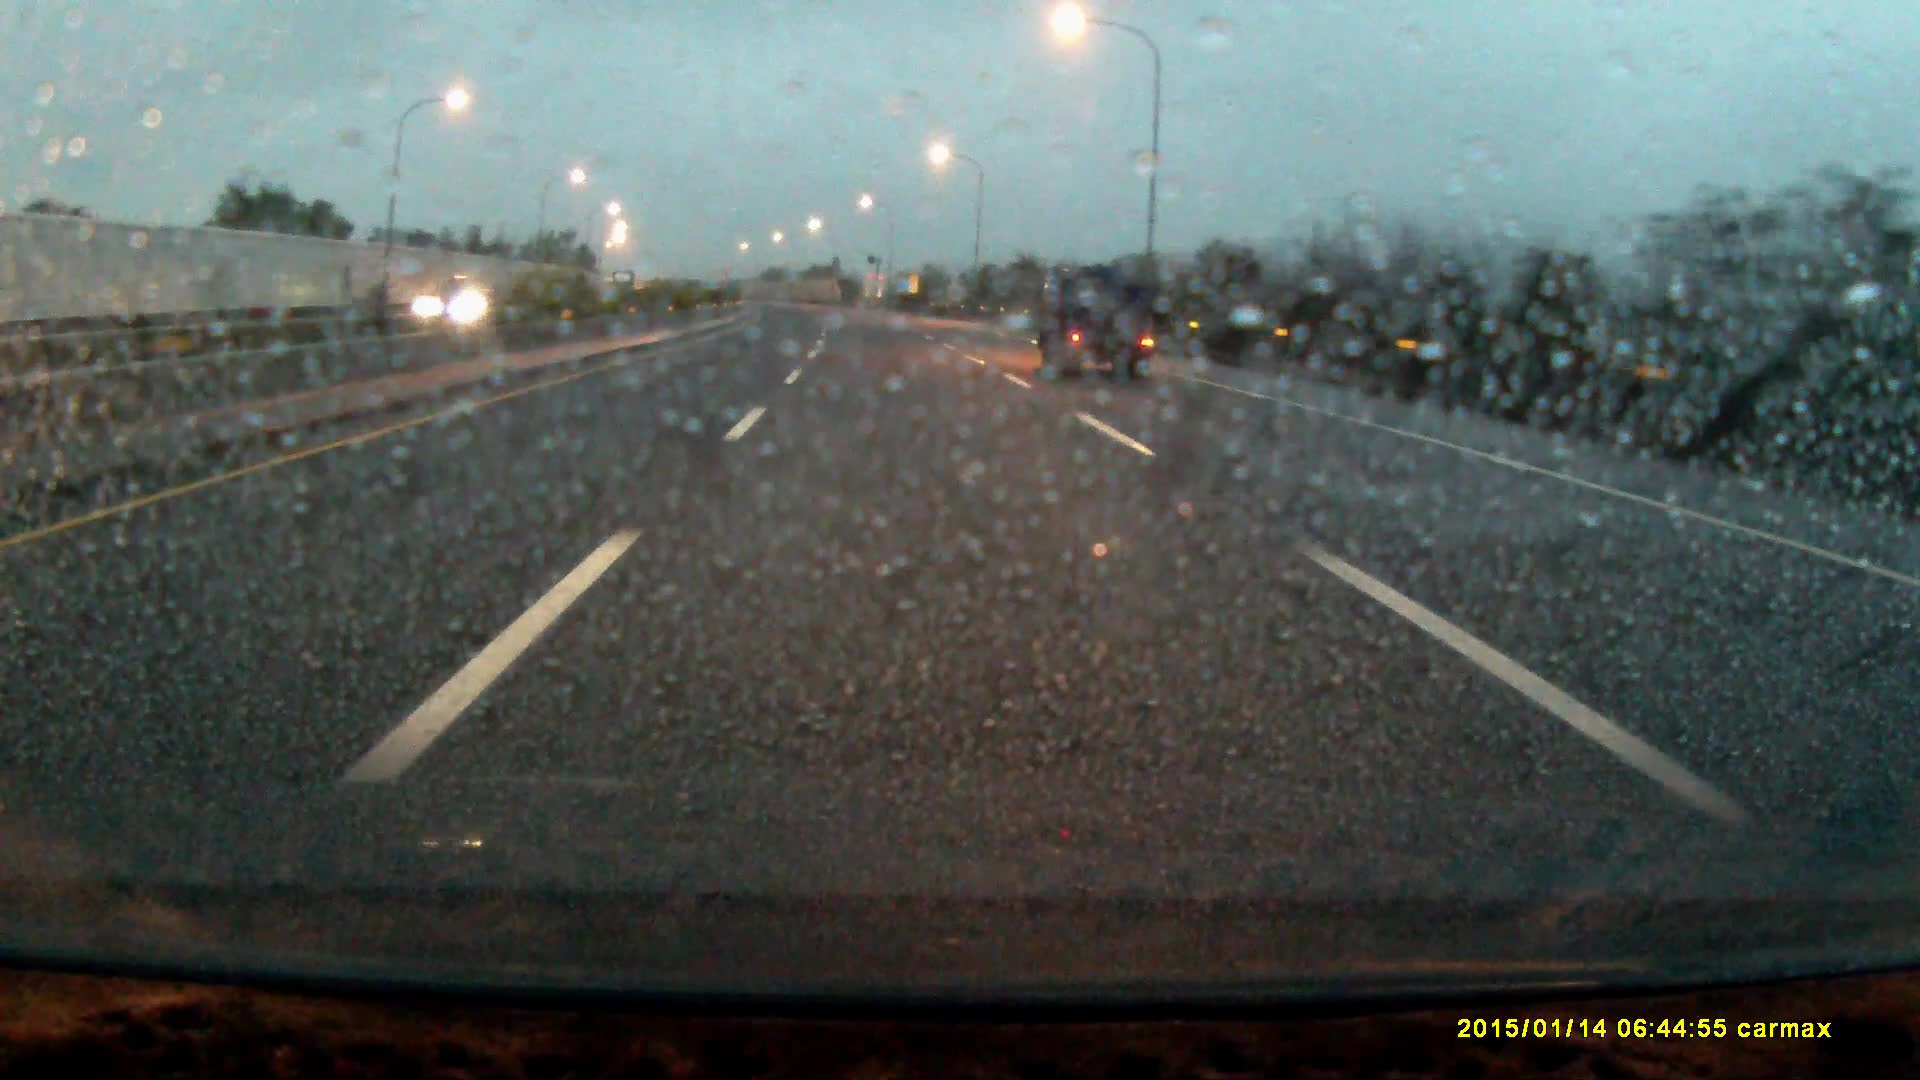vehicle: (1042, 270, 1153, 378), (407, 277, 498, 326), (613, 270, 636, 290)
